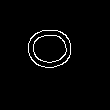O_E: (28, 32, 83, 76)
